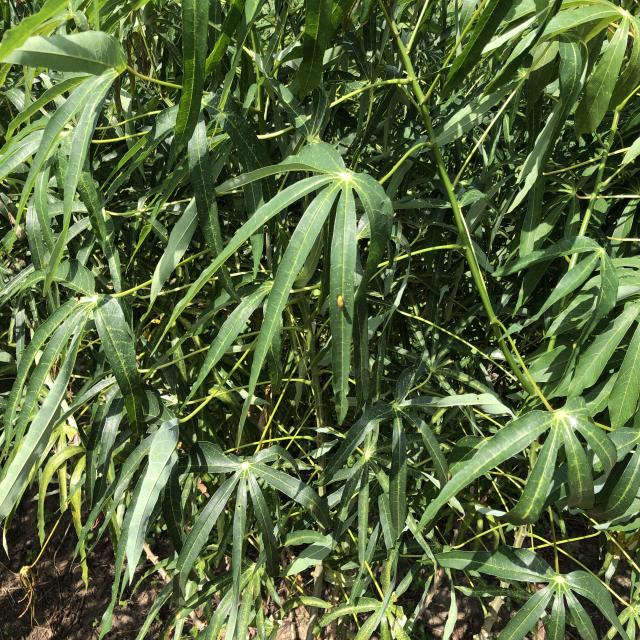Mosca: (334, 288, 350, 309)
